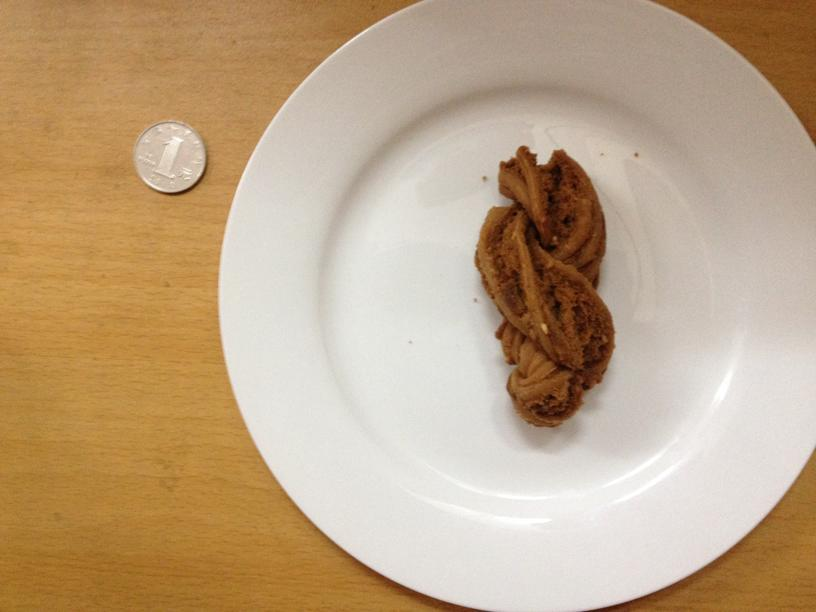coin: (134, 119, 205, 193)
fired_dough_twist: (484, 147, 614, 423)
